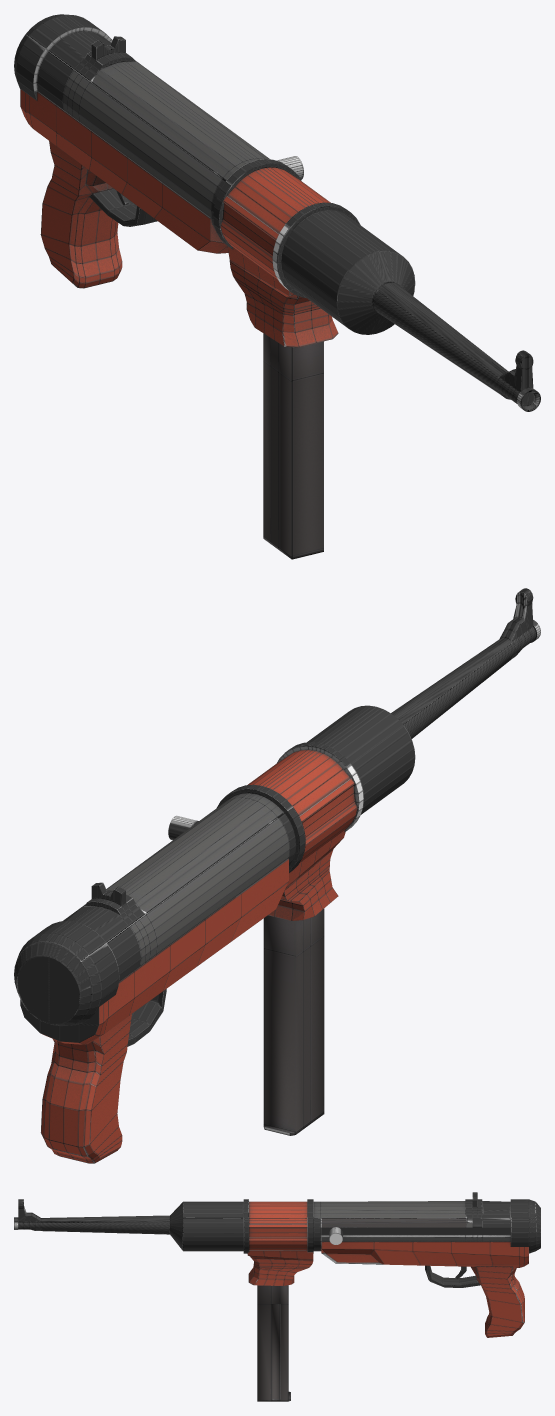
Rendered from Completed MP40.fbx.
3 renders of one model, top to bottom at view 1: azimuth 30°, elevation 25°; view 2: azimuth 150°, elevation 25°; view 3: azimuth 270°, elevation 25°, orthographic. The views are drawn at different scales.
Parts seen in each view (by area): view 1: MP40; view 2: MP40; view 3: MP40.
Boxes of the visible parts, x1=… form: MP40: x1=14, y1=14, x2=540, y2=559; MP40: x1=14, y1=588, x2=540, y2=1163; MP40: x1=14, y1=1192, x2=540, y2=1401.
Bounding box in the file's own units: 268 × 901 × 2128.
